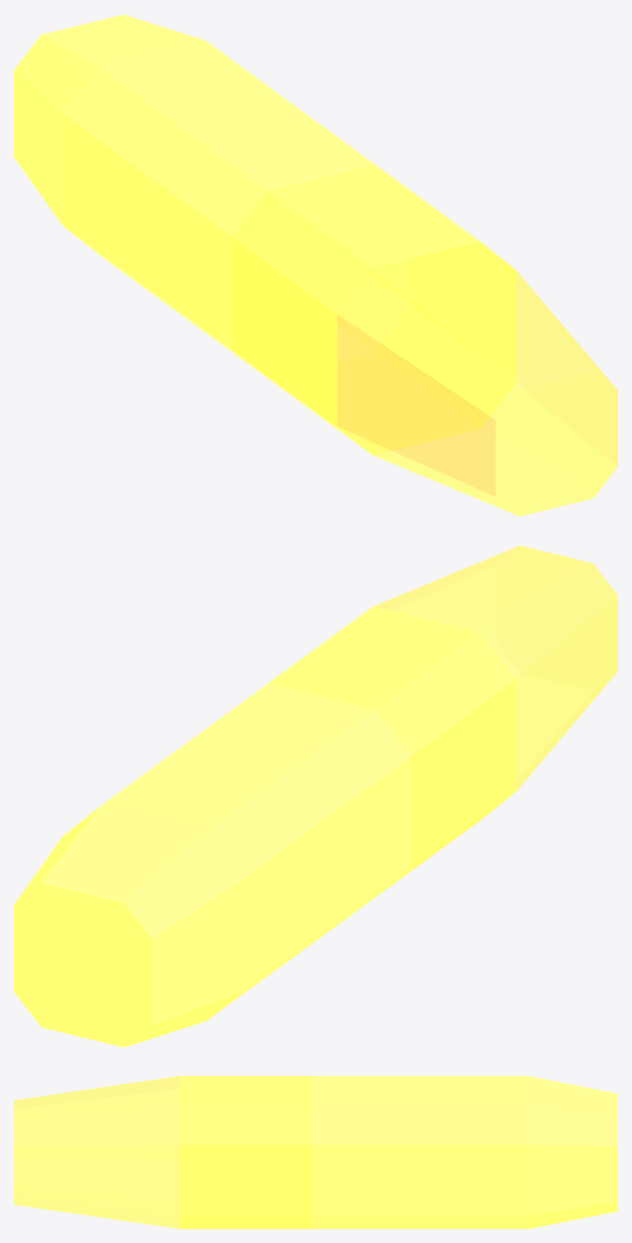
File: Laser.fbx
3 views of the same model, one above another, from view 1: azimuth 30°, elevation 25°; view 2: azimuth 150°, elevation 25°; view 3: azimuth 270°, elevation 25° (orthographic). The views are drawn at different scales.
Parts seen in each view (by area): view 1: Laser; view 2: Laser; view 3: Laser.
Part boxes in pixels (bbox=[...]): Laser: bbox=[14, 14, 617, 516]; Laser: bbox=[14, 545, 617, 1047]; Laser: bbox=[14, 1076, 617, 1228].
Size of the model in its own units: 24 by 24 by 110.
